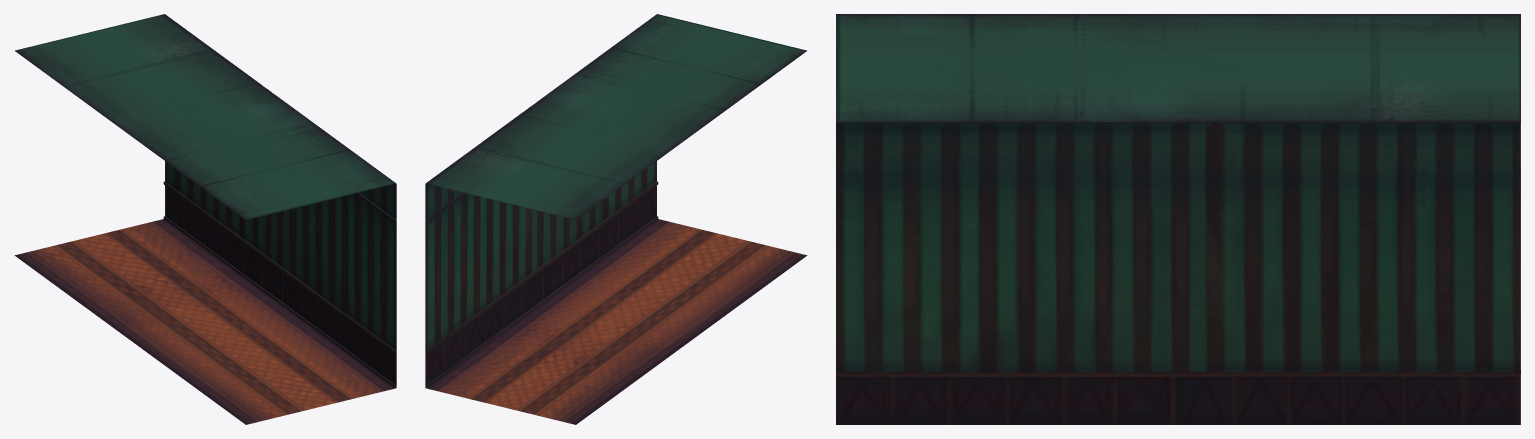
Rendered from wall_02_rt.obj.
3 views of the same model, side by side, from view 1: azimuth 30°, elevation 25°; view 2: azimuth 150°, elevation 25°; view 3: azimuth 270°, elevation 25° (orthographic). The views are drawn at different scales.
Parts seen in each view (by area): view 1: wall_02_rt; view 2: wall_02_rt; view 3: wall_02_rt.
Part boxes in pixels (left/top/right/bottom): wall_02_rt: left=14, top=14, right=396, bottom=424; wall_02_rt: left=425, top=14, right=807, bottom=424; wall_02_rt: left=836, top=14, right=1520, bottom=424.
Size of the model in its own units: 183 by 238 by 487.
